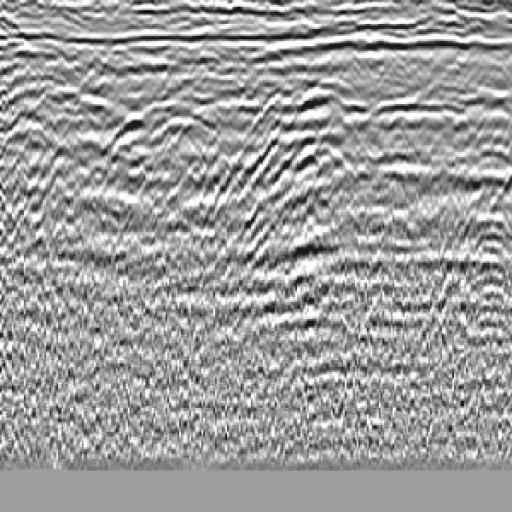metalic: (275, 64, 364, 149)
